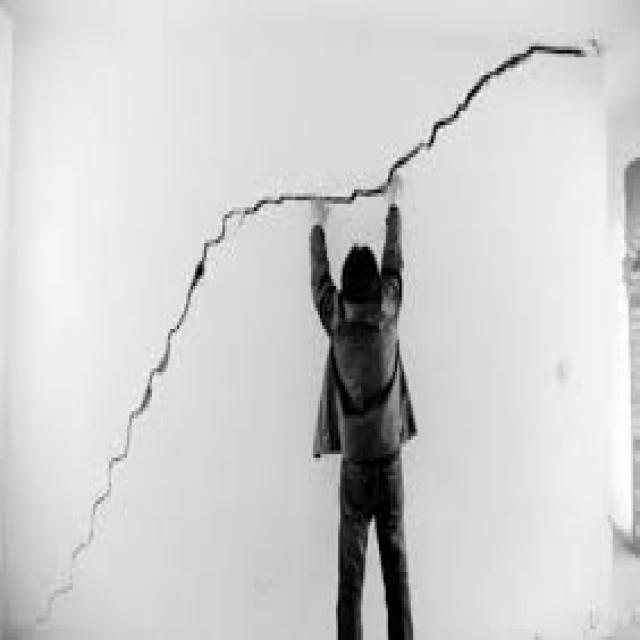wall_crack: (393, 38, 600, 175), (45, 404, 145, 623), (148, 219, 224, 405), (228, 176, 388, 217)
